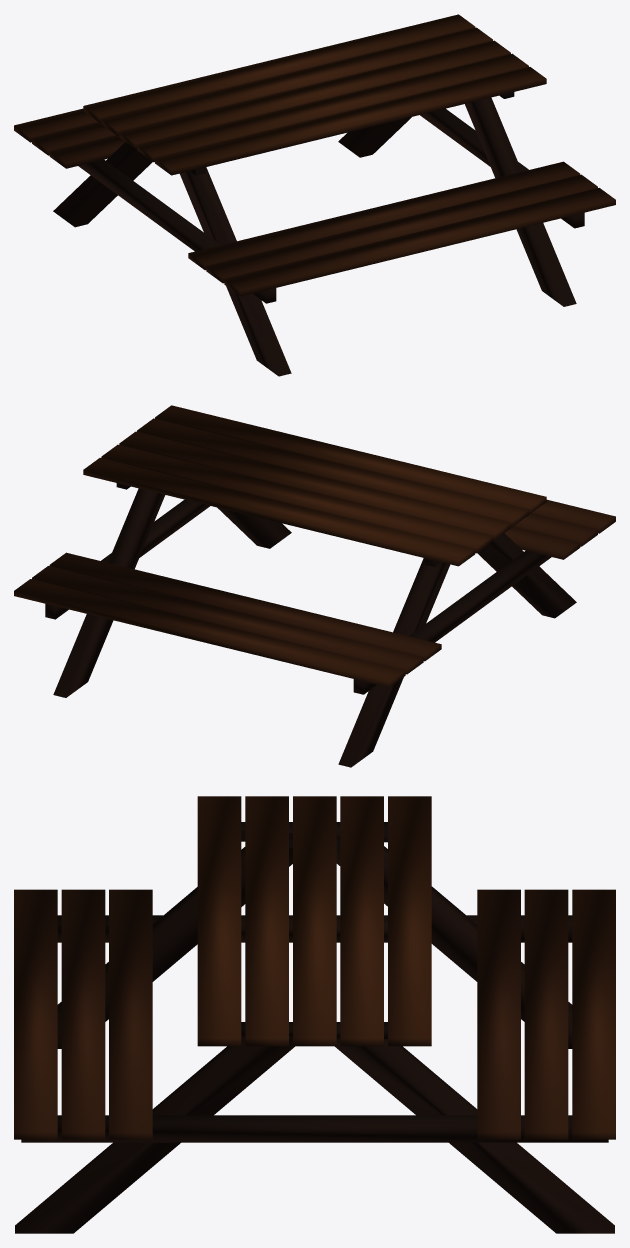
Rendered from PicnicTable_Medium.fbx.
The picture shows the model from 3 angles, top to bottom: view 1: azimuth 30°, elevation 25°; view 2: azimuth 150°, elevation 25°; view 3: azimuth 270°, elevation 25°; orthographic projection. The views are drawn at different scales.
Parts seen in each view (by area): view 1: PicnicTable_Medium; view 2: PicnicTable_Medium; view 3: PicnicTable_Medium.
Boxes of the visible parts, x1=… form: PicnicTable_Medium: x1=14, y1=14, x2=615, y2=376; PicnicTable_Medium: x1=14, y1=405, x2=615, y2=767; PicnicTable_Medium: x1=14, y1=796, x2=615, y2=1233.
Bounding box in the file's own units: 222 × 93.61 × 233.
